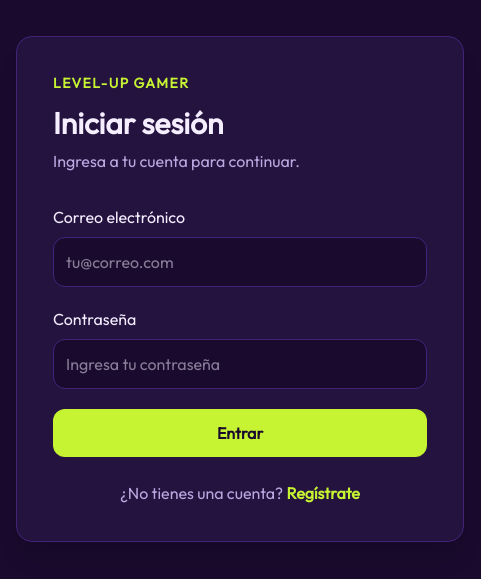
Inicio de sesión › rechaza una contraseña incorrecta
Type "nico@duoc.cl" into the field labelled "Correo electrónico" at x=240, y=262, box [53,237,427,287]
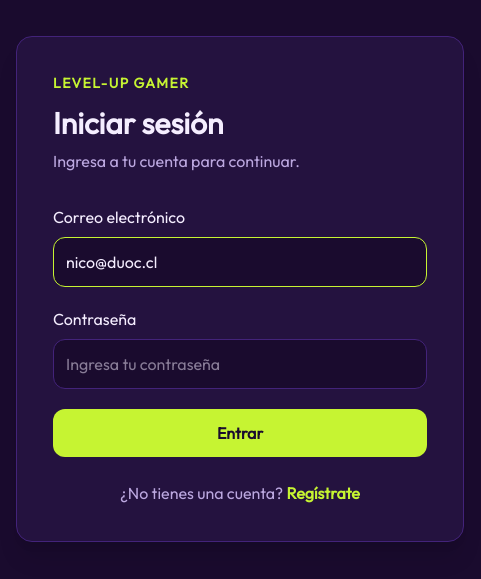
Type "Incorrecta123!" into the password field labelled "Contraseña" at x=240, y=364, box [53,339,427,389]
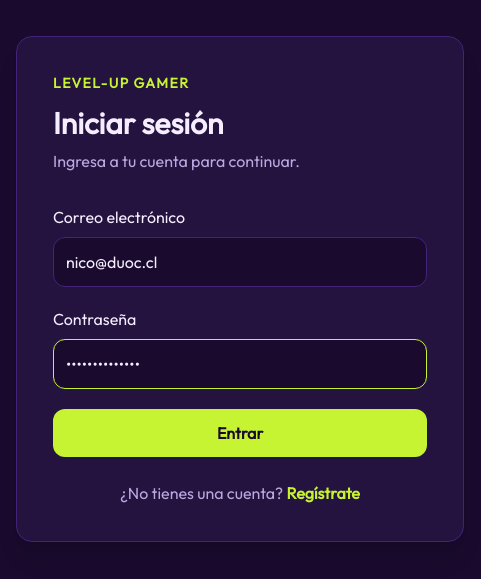
Submit the form "Entrar", box [53,205,427,457]
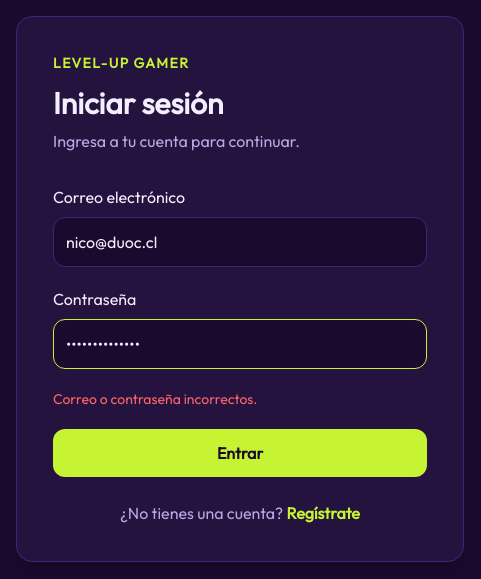
Now the message reads "Correo o contraseña incorrectos.", box [53,390,257,408]
